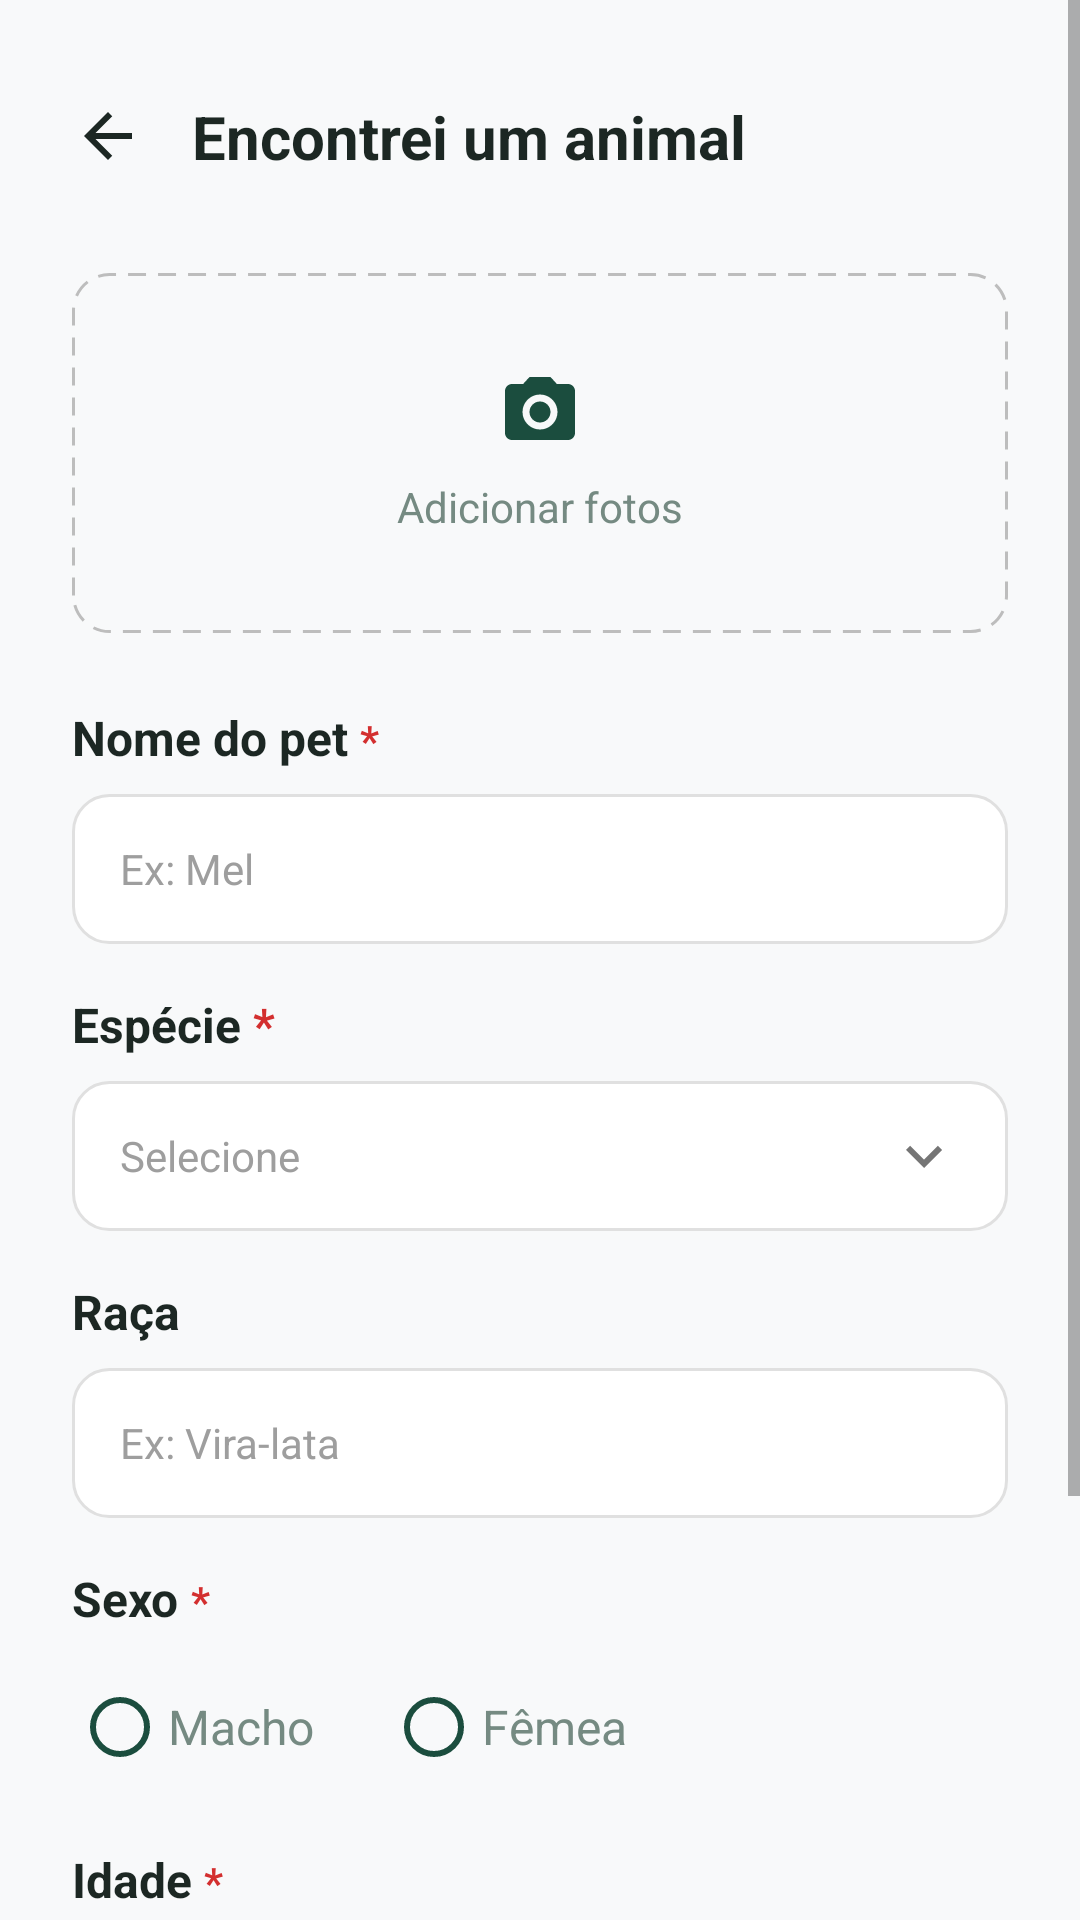

Named icons in this screenshot (1080 x 1920) and their centers, point (x, y):
camera add: point (540, 408)
Voltar: point (108, 136)
